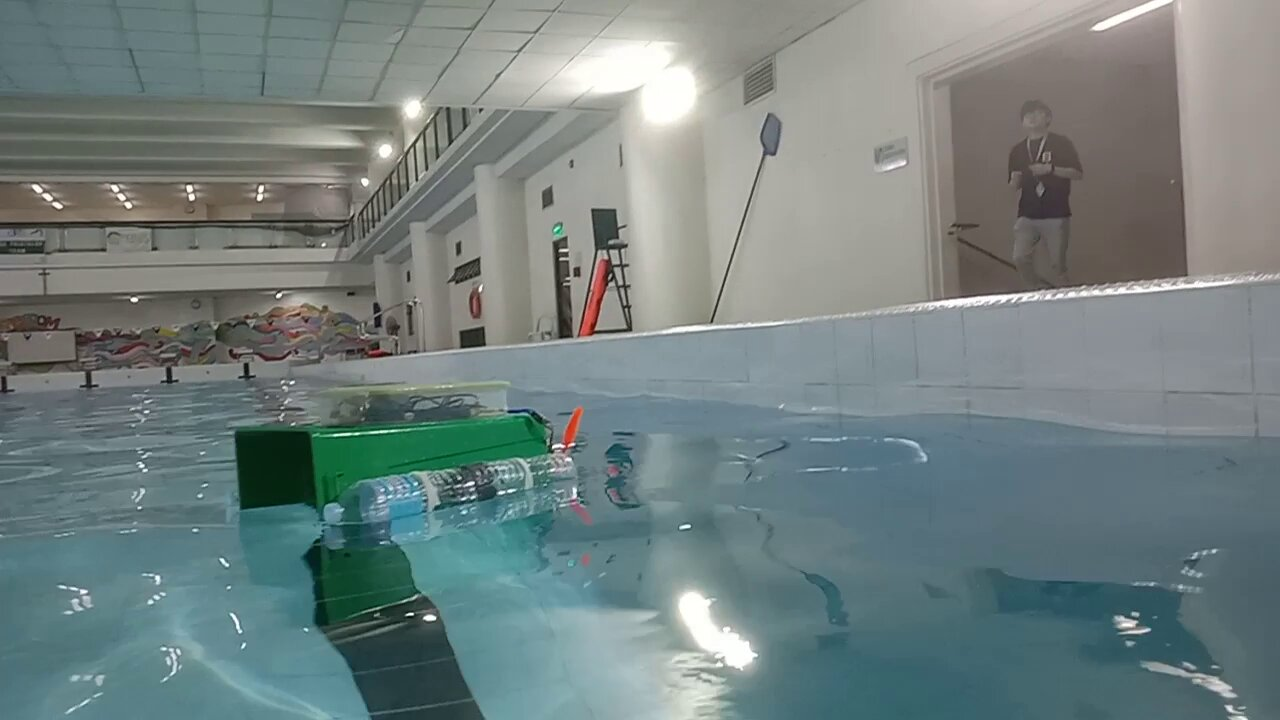drone: (232, 379, 583, 525)
